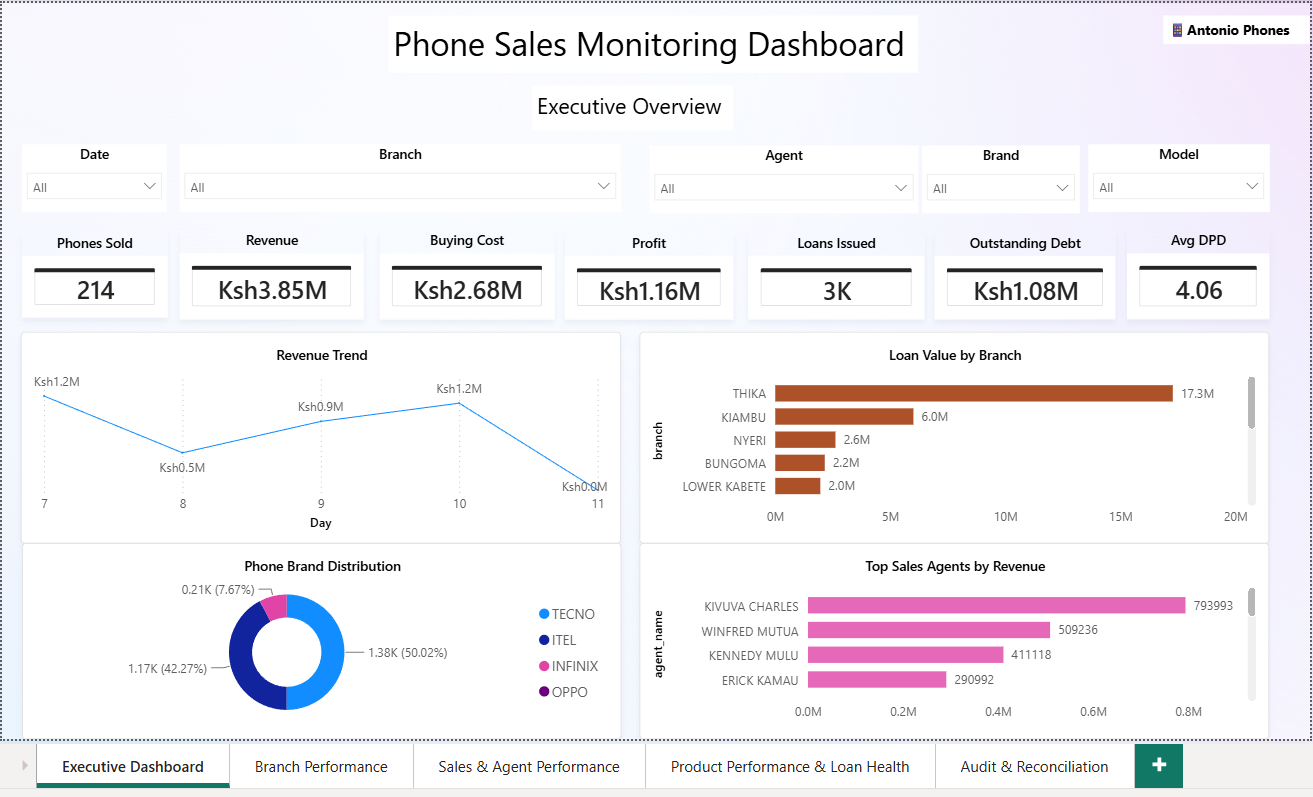

This screenshot's page, from the dashboard's own definition file:
{"tool":"powerbi","page":{"name":"Executive Dashboard","canvas":[1280,720],"ordinal":0},"visuals":[{"type":"textbox","box":[377.9,12.2,518.5,56.3],"z":0},{"type":"textbox","box":[518.5,80.7,196.9,44],"z":1000},{"type":"slicer","title":"Date","fields":{"Values":["Calendar.Date"]},"box":[19.6,138.2,141.8,66],"z":2000},{"type":"slicer","title":"Branch","fields":{"Values":["master_loans.branch"]},"box":[173.7,138.7,431.9,66.4],"z":3000},{"type":"slicer","title":"Agent","fields":{"Values":["sales_details_clean.agent_name"]},"box":[633.4,139.9,263,66.4],"z":4000},{"type":"slicer","title":"Brand","fields":{"Values":["master_loans.brand"]},"box":[900,139.9,154.4,66.4],"z":5000},{"type":"slicer","title":"Model","fields":{"Values":["master_loans.market_name"]},"box":[1062.9,138.7,177.3,66.4],"z":6000},{"type":"cardVisual","title":"Phones Sold","fields":{"Data":["KPI.Phones Sold"]},"box":[19.3,225.6,142.4,83.2],"z":7000},{"type":"lineChart","title":"Revenue Trend","fields":{"Category":["Calendar.Date.Variation.Date Hierarchy.Day"],"Y":["KPI.Revenue"]},"box":[18.8,321.2,587.5,207.5],"z":8000},{"type":"clusteredBarChart","title":"Loan Value by Branch","fields":{"Y":["Sum(master_loans.loan_amount)"],"Category":["master_loans.branch"]},"box":[623.8,321.2,616.2,207.5],"z":9000},{"type":"donutChart","title":"Phone Brand Distribution","fields":{"Category":["master_loans.brand"],"Y":["CountNonNull(master_loans.agreement_number)"]},"box":[19.3,528.4,586.3,191.8],"z":10000},{"type":"clusteredBarChart","title":"Top Sales Agents by Revenue","fields":{"Category":["agent_summary.agent_name"],"Y":["Sum(agent_summary.Revenue)"]},"box":[623.6,528.3,616.3,192],"z":11000},{"type":"cardVisual","title":"Revenue","fields":{"Data":["KPI.Revenue"]},"box":[173.7,222,181,86.9],"z":12000},{"type":"cardVisual","title":"Profit","fields":{"Data":["KPI.Profit"]},"box":[550.1,224.4,165.3,84.5],"z":13000},{"type":"cardVisual","title":"Loans Issued","fields":{"Data":["KPI.Loans Issued"]},"box":[729.9,224.4,172.5,84.5],"z":14000},{"type":"cardVisual","title":"Outstanding Debt","fields":{"Data":["KPI.Outstanding Debt"]},"box":[912.1,224.4,177.3,84.5],"z":15000},{"type":"cardVisual","title":"Avg DPD","fields":{"Data":["KPI.Average DPD"]},"box":[1100.3,222,139.9,86.9],"z":16000},{"type":"cardVisual","title":"Buying Cost","fields":{"Data":["KPI.Buying Cost"]},"box":[369.2,222,171.3,86.9],"z":17000},{"type":"textbox","box":[1136.4,12.1,143.6,27.7],"z":18000}]}

Visuals, with their boxes on the page's 1280x720 design canvas (x1, y1, x2, y2). These are canvas units, not pixel positions in the 1313x797 screenshot, which may show the page scaled, cropped or inside an application window:
textbox: 378, 12, 896, 68
textbox: 518, 81, 715, 125
"Date" slicer: 20, 138, 161, 204
"Branch" slicer: 174, 139, 606, 205
"Agent" slicer: 633, 140, 896, 206
"Brand" slicer: 900, 140, 1054, 206
"Model" slicer: 1063, 139, 1240, 205
"Phones Sold" cardVisual: 19, 226, 162, 309
"Revenue Trend" lineChart: 19, 321, 606, 529
"Loan Value by Branch" clusteredBarChart: 624, 321, 1240, 529
"Phone Brand Distribution" donutChart: 19, 528, 606, 720
"Top Sales Agents by Revenue" clusteredBarChart: 624, 528, 1240, 720
"Revenue" cardVisual: 174, 222, 355, 309
"Profit" cardVisual: 550, 224, 715, 309
"Loans Issued" cardVisual: 730, 224, 902, 309
"Outstanding Debt" cardVisual: 912, 224, 1089, 309
"Avg DPD" cardVisual: 1100, 222, 1240, 309
"Buying Cost" cardVisual: 369, 222, 540, 309
textbox: 1136, 12, 1280, 40
